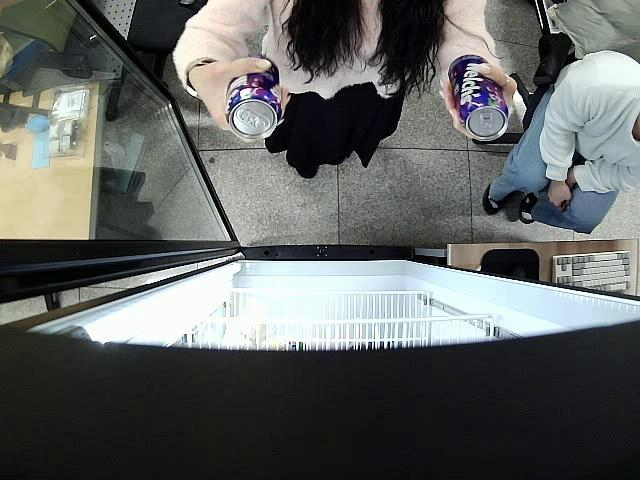14_welchsGrape: (448, 53, 512, 142), (224, 56, 281, 144)
